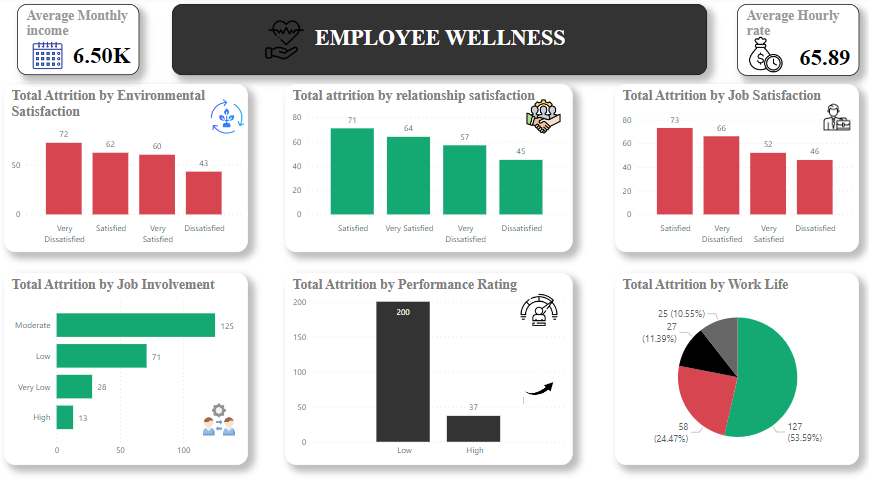

The page's visual inventory and layout, read from the dashboard file:
{"tool":"powerbi","page":{"name":"Page 5","canvas":[1280,720],"ordinal":4},"visuals":[{"type":"textbox","box":[259,10.2,782.9,103.9],"z":0},{"type":"image","box":[389.3,29.3,68.8,67.3],"z":1000},{"type":"clusteredColumnChart","title":"Total Attrition by Environmental Satisfaction","fields":{"Category":["HR-Employee-Attrition.EnvironmentSatisfaction (groups)"],"Y":["Sum(HR-Employee-Attrition.Attrition count)"]},"box":[13.2,127.3,357.1,245.9],"z":2000},{"type":"image","box":[310.2,144.9,60,60],"z":3000},{"type":"cardVisual","title":"Average Monthly income","fields":{"Data":["Avg(HR-Employee-Attrition.MonthlyIncome)"]},"box":[32.2,10.2,178.5,103.9],"z":4000},{"type":"image","box":[43.9,54.1,65.9,60],"z":4001},{"type":"cardVisual","title":"Average Hourly rate","fields":{"Data":["Avg(HR-Employee-Attrition.HourlyRate)"]},"box":[1085.9,10.2,178.5,105.4],"z":4002},{"type":"image","box":[1096.1,51.2,64.4,65.9],"z":4003},{"type":"clusteredColumnChart","title":"Total attrition by relationship satisfaction","fields":{"Category":["HR-Employee-Attrition.RelationshipSatisfaction (groups)"],"Y":["Sum(HR-Employee-Attrition.Attrition count)"]},"box":[424.4,127.3,421.5,245.9],"z":4004},{"type":"image","box":[772.7,144.9,60,60],"z":4005},{"type":"clusteredColumnChart","title":"Total Attrition by Job Satisfaction","fields":{"Category":["HR-Employee-Attrition.JobSatisfaction (groups)"],"Y":["Sum(HR-Employee-Attrition.Attrition count)"]},"box":[907.3,127.3,357.1,245.9],"z":4006},{"type":"image","box":[1200,150.7,64.4,49.8],"z":4007},{"type":"clusteredBarChart","title":"Total Attrition by Job Involvement","fields":{"Category":["HR-Employee-Attrition.JobInvolvement (groups)"],"Y":["Sum(HR-Employee-Attrition.Attrition count)"]},"box":[13.2,403.9,357.1,281],"z":4008},{"type":"image","box":[295.6,588.3,62.9,60],"z":4009},{"type":"columnChart","title":"Total Attrition by Performance Rating","fields":{"Category":["HR-Employee-Attrition.PerformanceRating (groups)"],"Y":["Sum(HR-Employee-Attrition.Attrition count)"]},"box":[424,404,421,281],"z":4010},{"type":"image","box":[759.5,544.4,73.2,57.1],"z":4011},{"type":"image","box":[755.1,425.9,82,64.4],"z":4012},{"type":"pieChart","title":"Total Attrition by Work Life","fields":{"Category":["HR-Employee-Attrition.WorkLifeBalance (groups)"],"Y":["Sum(HR-Employee-Attrition.Attrition count)"]},"box":[907,404,357,281],"z":4013}]}

Visuals, with their boxes in screenshot pixels (x1, y1, x2, y2), scaled from the page's 1280x720 canvas onto the 869x480 screenshot:
textbox: 176,7,707,76
image: 264,20,311,64
"Total Attrition by Environmental Satisfaction" clusteredColumnChart: 9,85,251,249
image: 211,97,251,137
"Average Monthly income" cardVisual: 22,7,143,76
image: 30,36,75,76
"Average Hourly rate" cardVisual: 737,7,858,77
image: 744,34,788,78
"Total attrition by relationship satisfaction" clusteredColumnChart: 288,85,574,249
image: 525,97,565,137
"Total Attrition by Job Satisfaction" clusteredColumnChart: 616,85,858,249
image: 815,100,858,134
"Total Attrition by Job Involvement" clusteredBarChart: 9,269,251,457
image: 201,392,243,432
"Total Attrition by Performance Rating" columnChart: 288,269,574,457
image: 516,363,565,401
image: 513,284,568,327
"Total Attrition by Work Life" pieChart: 616,269,858,457
